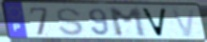7: (27, 6, 51, 37)
9: (87, 7, 111, 36)
M: (107, 7, 149, 38)
S: (55, 7, 86, 37)
V: (139, 7, 169, 38), (170, 8, 198, 39)
